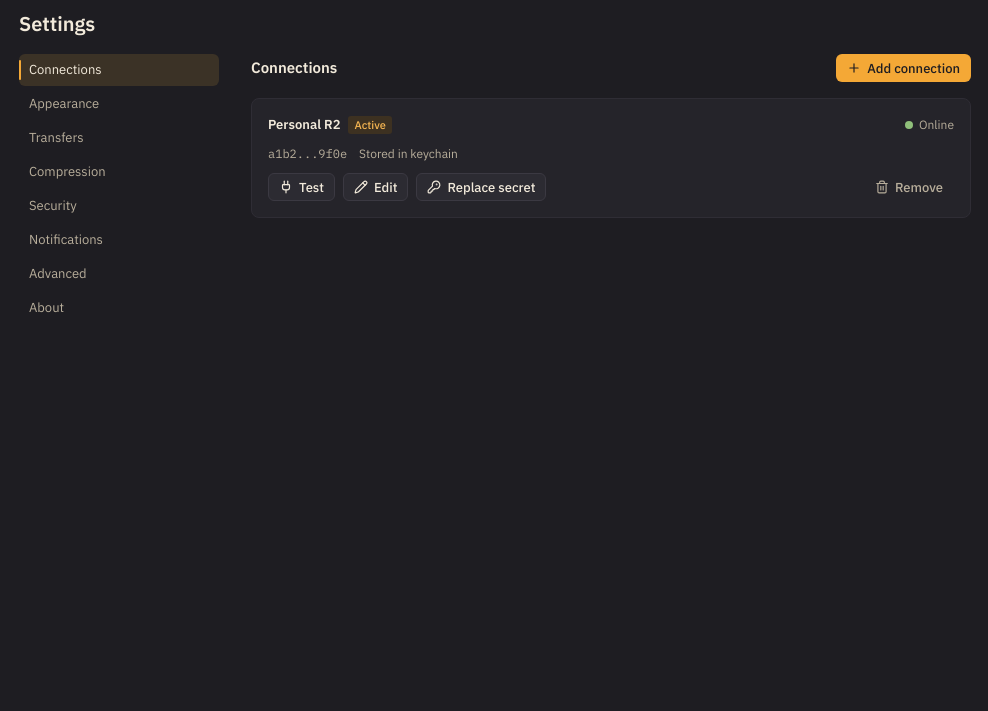
Test: Activity log settings › offers Reset to default for a custom activity folder
The image size is (988, 711).
Step 1. Click the button "Advanced" → click(119, 274), box x1=19 y1=258 x2=219 y2=290
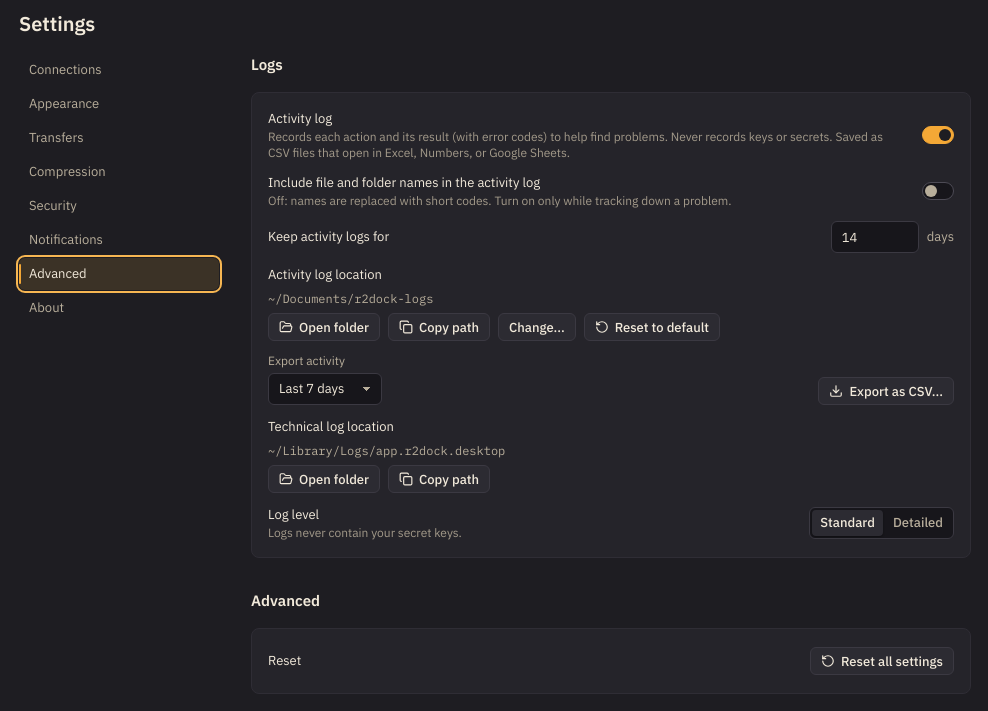
Step 2. Click the button "Reset to default" → click(652, 327), box x1=584 y1=313 x2=720 y2=341
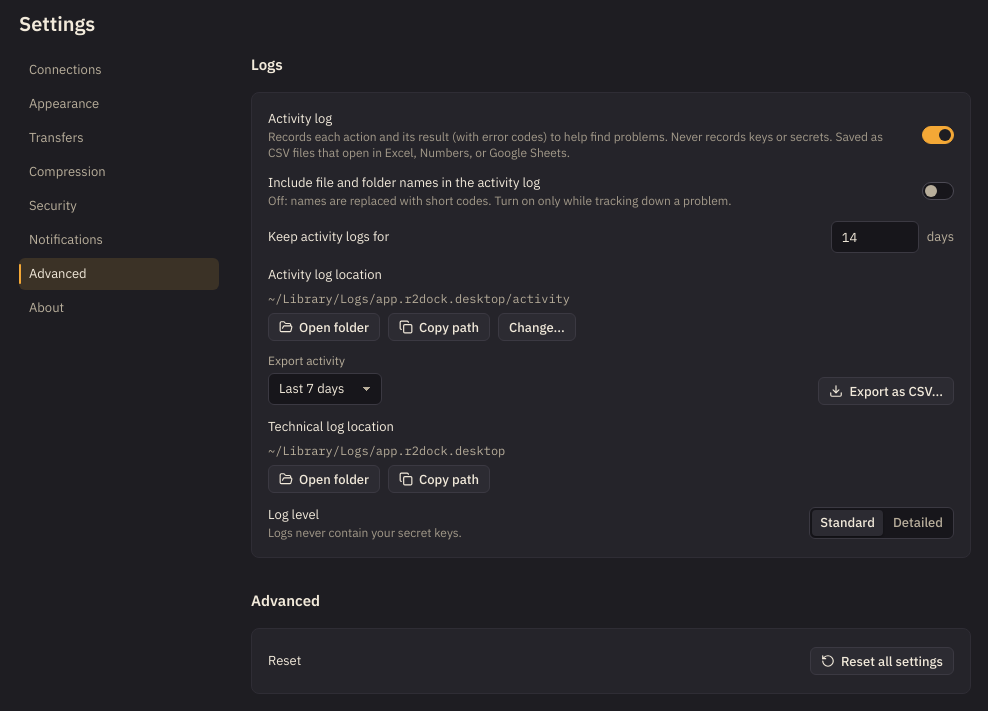
Now the text "~/Library/Logs/app.r2dock.desktop/activity" is shown, box x1=268 y1=291 x2=570 y2=306
